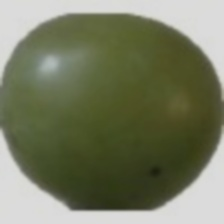grapes: (24, 25, 218, 223)
